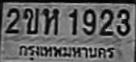1: (68, 8, 77, 34)
2: (98, 8, 113, 35), (5, 7, 19, 33)
3: (116, 8, 129, 35)
9: (82, 8, 95, 34)
A02: (23, 7, 38, 33)
A41: (42, 8, 58, 34)
BKK: (18, 43, 116, 62)
